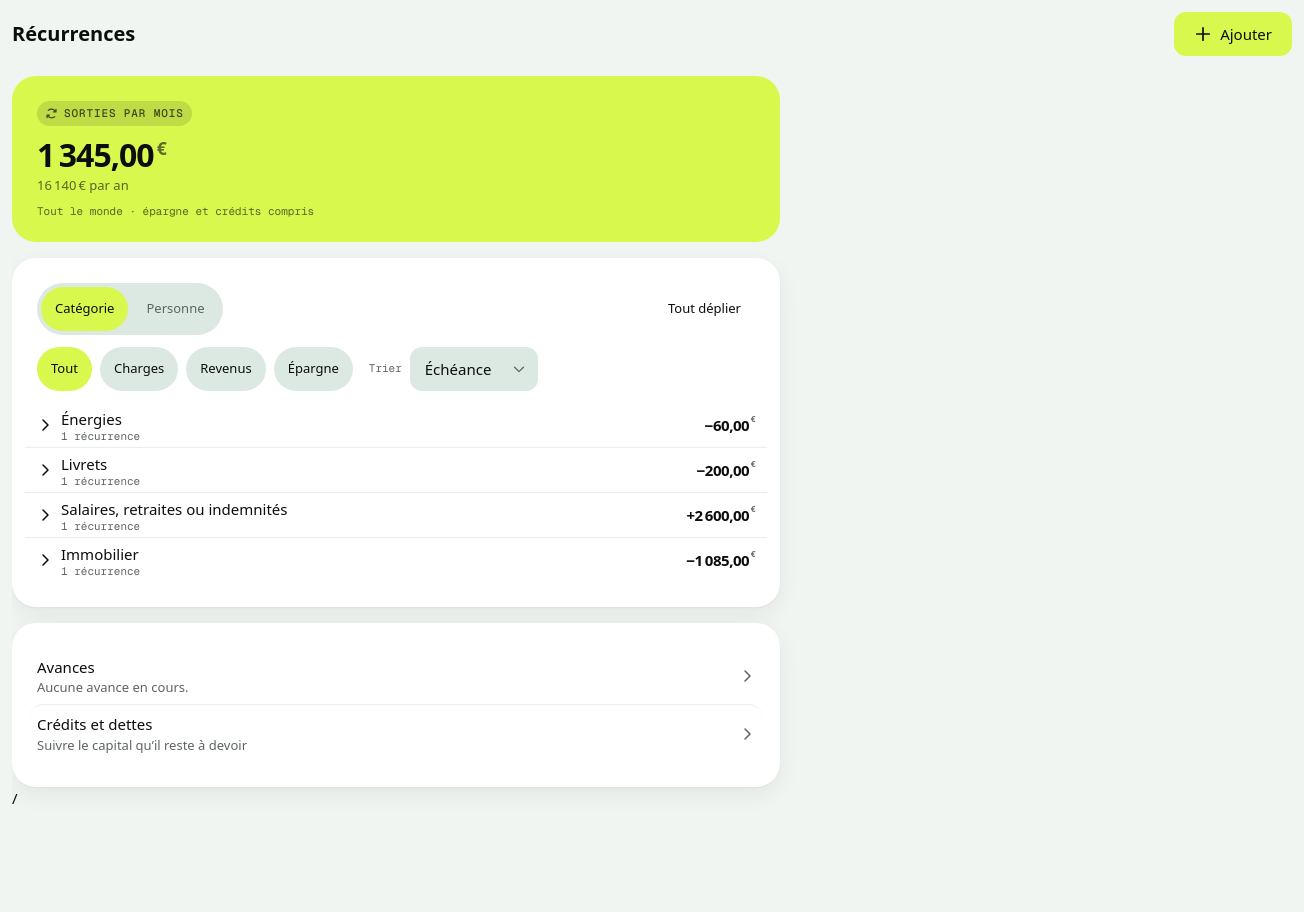
Test case: RecurrencesPage › les deux suivis du bas › mènent aux crédits
Step 1. Click the link "Crédits et dettes Suivre le capital qu’il reste à devoir" → (95, 724), box [29,704,763,762]
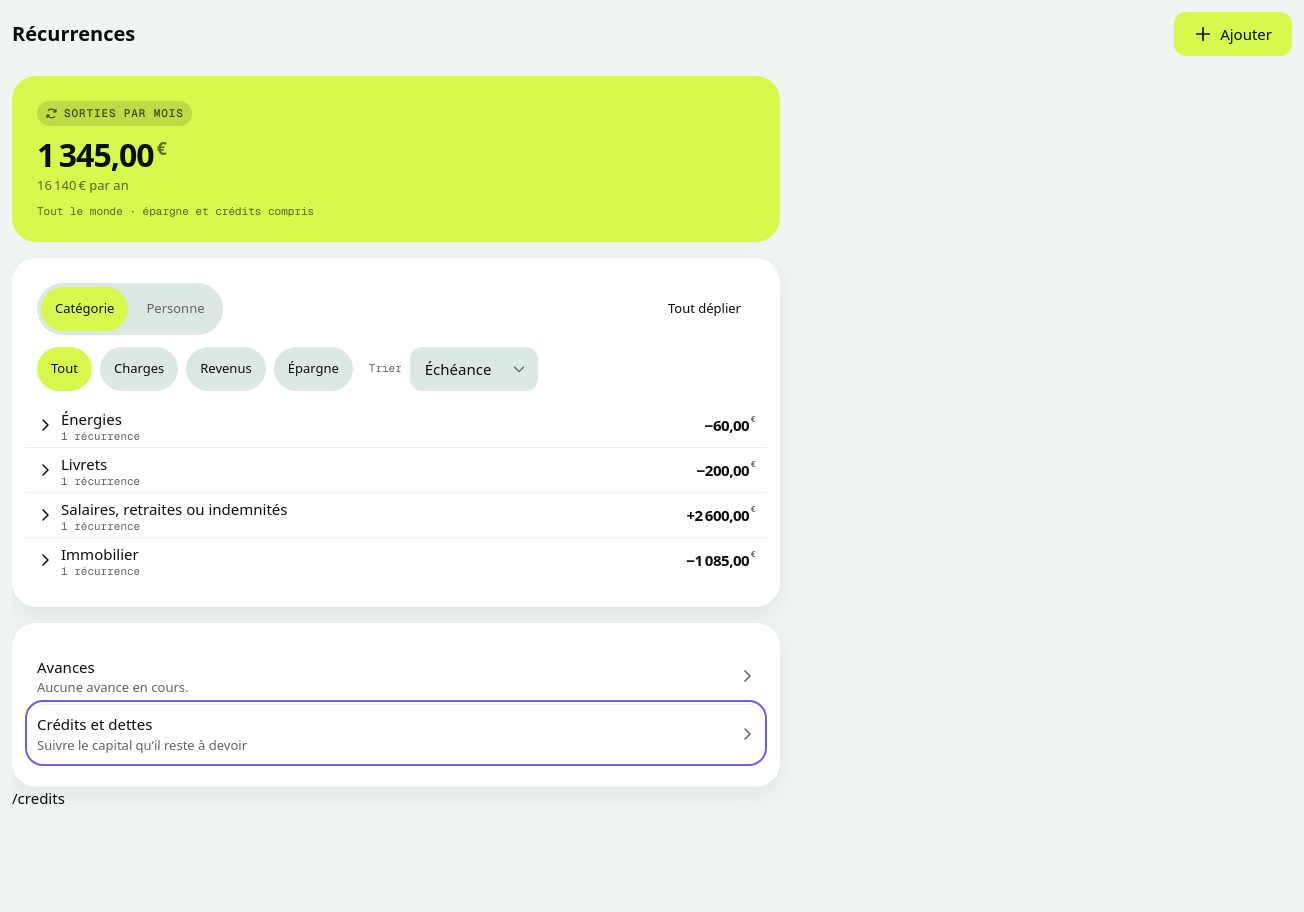
Now the text with test id "url" reads "/credits", box [12,788,65,808]
